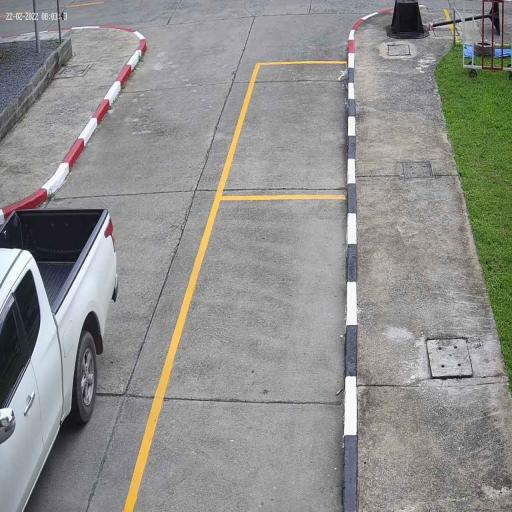car: (0, 206, 118, 512)
